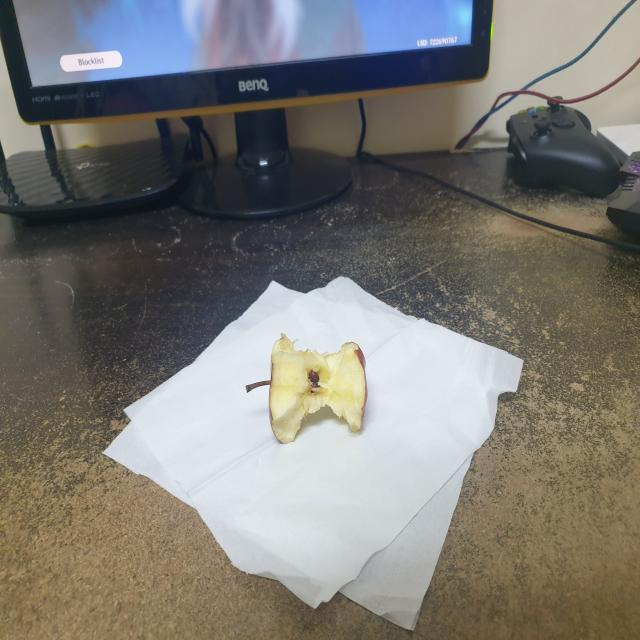apple: (243, 321, 375, 447)
